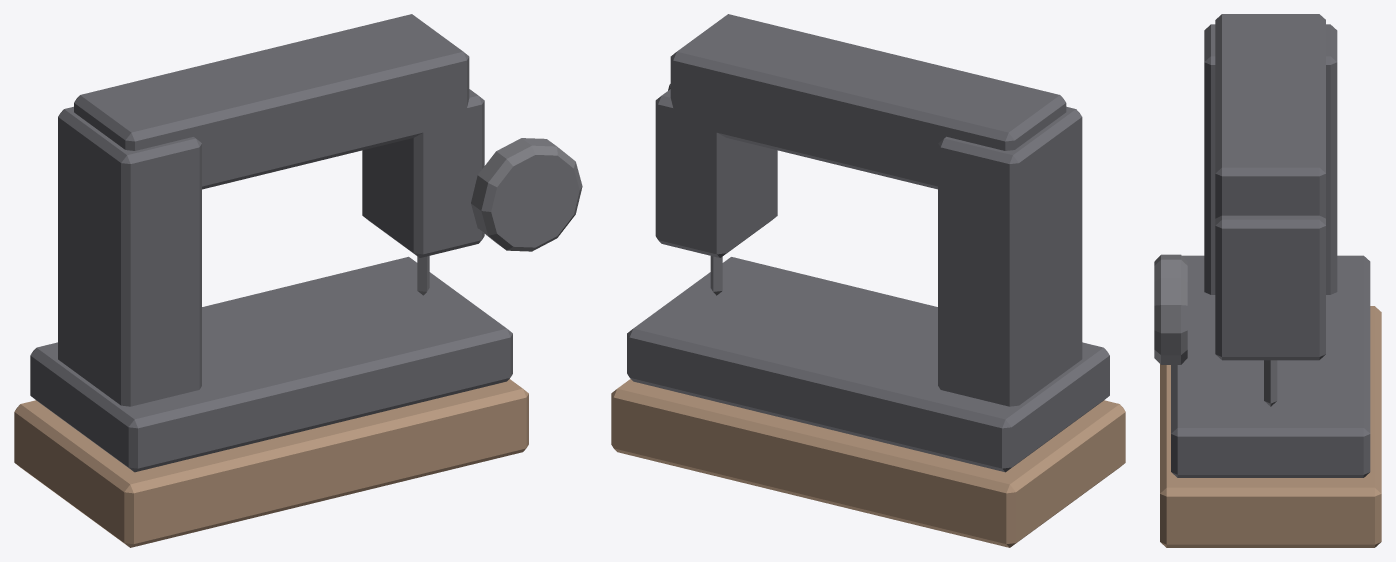
Rendered from SM_Sewing_Machine.fbx.
3 views of the same model, side by side, from view 1: azimuth 30°, elevation 25°; view 2: azimuth 150°, elevation 25°; view 3: azimuth 270°, elevation 25° (orthographic). The views are drawn at different scales.
Parts seen in each view (by area): view 1: Sewing_Machine; view 2: Sewing_Machine; view 3: Sewing_Machine.
Boxes of the visible parts, x1=… form: Sewing_Machine: x1=14, y1=14, x2=582, y2=547; Sewing_Machine: x1=611, y1=14, x2=1125, y2=547; Sewing_Machine: x1=1154, y1=14, x2=1381, y2=547.
Bounding box in the file's own units: 45 × 36.5 × 20.5.
